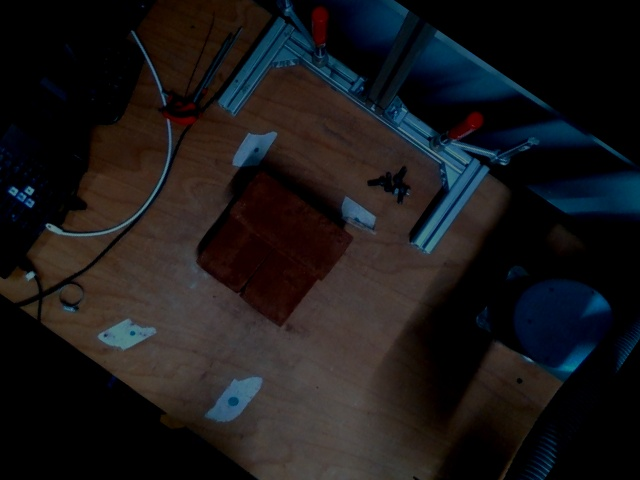brick: (230, 171, 350, 279)
